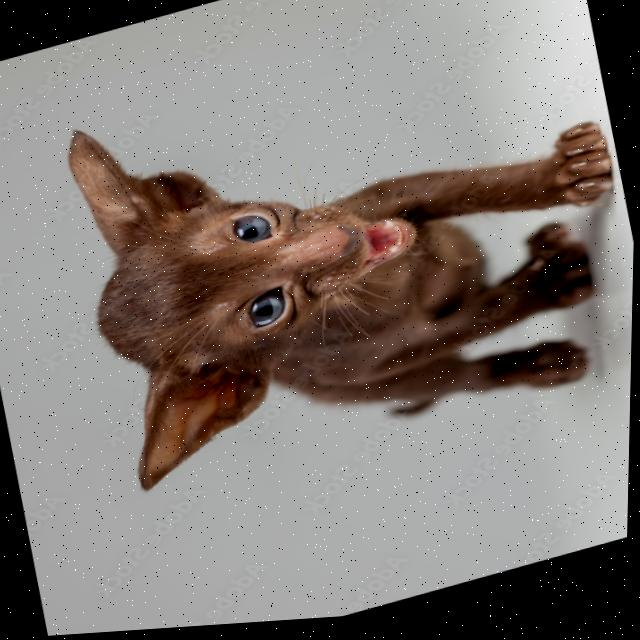Oriental: (45, 0, 640, 518)
